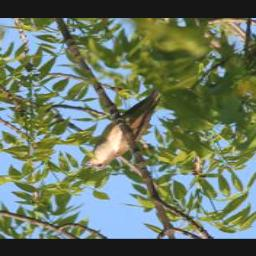Cuckoo: (84, 87, 166, 170)
